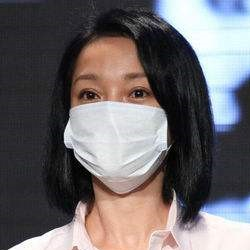mask: (57, 102, 173, 193)
